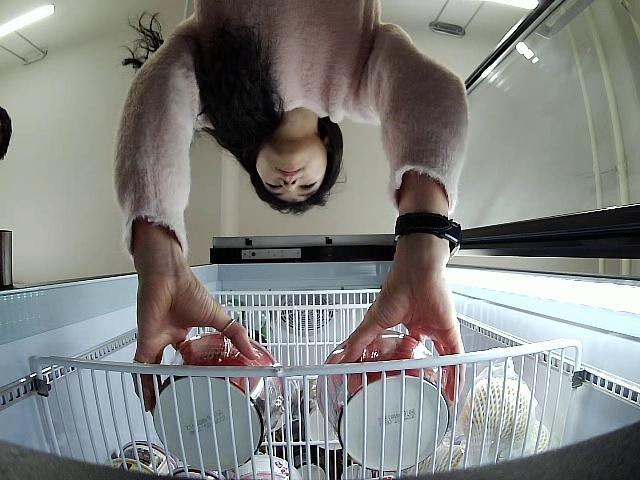01_ShinRamen_L: (316, 328, 452, 472), (152, 330, 284, 472)
